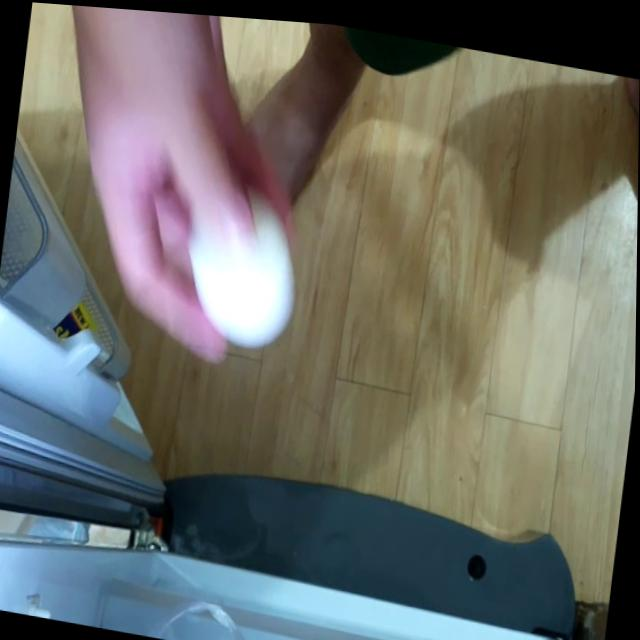egg: (180, 162, 314, 353)
